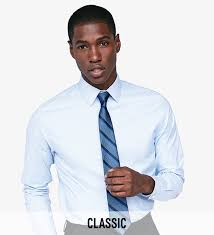F_shirt: (24, 77, 188, 208)
F_tie: (94, 88, 135, 235)
